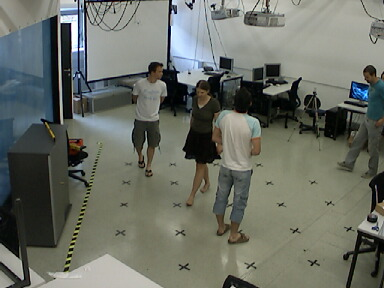person: (221, 84, 266, 260), (133, 54, 168, 181), (188, 78, 214, 206), (353, 61, 381, 176)
